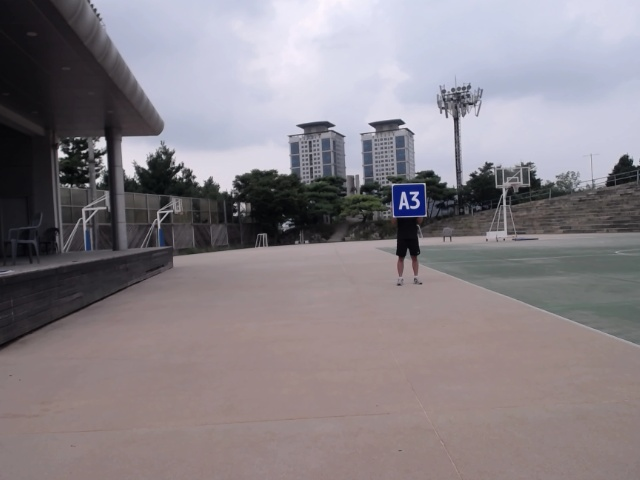delivery_a3: (392, 184, 427, 217)
